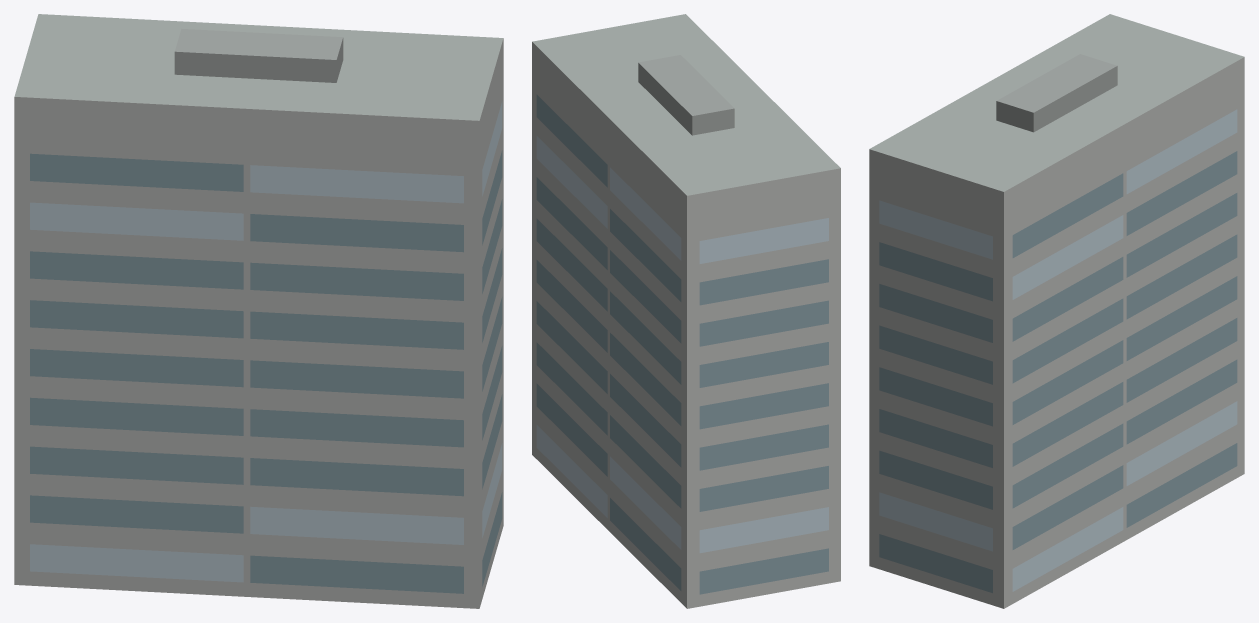
Rendered from fallback-dmc-parkview-xi-completion-402.glb.
3 renders of one model, left to right at view 1: azimuth 30°, elevation 25°; view 2: azimuth 150°, elevation 25°; view 3: azimuth 270°, elevation 25°, orthographic. The views are drawn at different scales.
Parts seen in each view (by area): view 1: fallback-dmc-parkview-xi-completion-402; view 2: fallback-dmc-parkview-xi-completion-402; view 3: fallback-dmc-parkview-xi-completion-402.
Part boxes in pixels (x1=…): fallback-dmc-parkview-xi-completion-402: x1=14, y1=14, x2=503, y2=608; fallback-dmc-parkview-xi-completion-402: x1=532, y1=14, x2=840, y2=608; fallback-dmc-parkview-xi-completion-402: x1=869, y1=14, x2=1244, y2=608.
Bounding box in the file's own units: 26.23 × 30 × 23.39.
